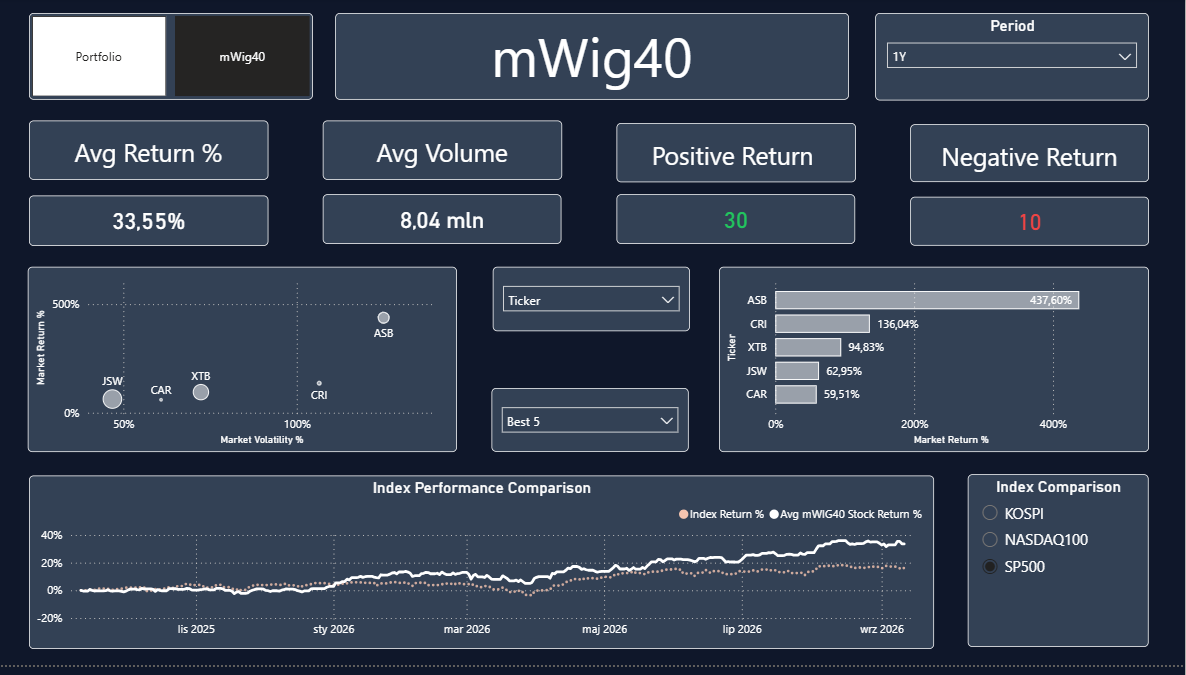

The dashboard page shown, as its layout file describes it:
{"tool":"powerbi","page":{"name":"mWig 40","canvas":[1280,720],"ordinal":1},"visuals":[{"type":"pageNavigator","box":[32,16,306,93.3],"z":0},{"type":"textbox","box":[362.3,16.5,554.4,93.3],"z":1000},{"type":"card","fields":{"Values":["Measures_mWIG40.mWIG40 Return %"]},"box":[32,213.3,258,54.2],"z":2000},{"type":"textbox","box":[32,132.7,258,64],"z":3000},{"type":"card","fields":{"Values":["Measures_mWIG40.Avg Volume"]},"box":[349.4,211.8,257.7,54],"z":4000},{"type":"textbox","box":[349,132.7,258,64],"z":5000},{"type":"card","fields":{"Values":["Measures_mWIG40.Positive"]},"box":[666.4,211.8,257.7,54],"z":6000},{"type":"textbox","box":[666,134.5,258,64],"z":7000},{"type":"card","fields":{"Values":["Measures_mWIG40.Negative"]},"box":[983.5,214.5,257.7,52.6],"z":8000},{"type":"textbox","box":[983.5,136.3,257.7,62.1],"z":9000},{"type":"slicer","title":"Period","fields":{"Values":["Market Period.Period"]},"box":[945.5,16.5,295,94.7],"z":10000},{"type":"slicer","fields":{"Values":["Parametr.Parametr"]},"box":[532.4,289.5,212.7,70],"z":11000},{"type":"scatterChart","fields":{"Category":["DimCompany.Ticker"],"X":["Measures_mWIG40.Market Volatility %"],"Y":["Measures_mWIG40.Market Return %"],"Size":["Measures_mWIG40.Market Avg Volume"]},"box":[31.6,289.5,463,200.3],"z":12000},{"type":"barChart","fields":{"Category":["DimCompany.Ticker"],"Y":["Measures_mWIG40.Market Return %"]},"box":[776.7,289.5,463.8,200.3],"z":13000},{"type":"slicer","fields":{"Values":["Performance Filter.Filter"]},"box":[531,421.3,212.7,68.6],"z":14000},{"type":"slicer","title":"Index Comparison","fields":{"Values":["Index Comparison.IndexName"]},"box":[1045.6,514.6,194.9,186.6],"z":15000},{"type":"lineChart","title":"Index Performance Comparison","fields":{"Y":["Measures_mWIG40.Index Return %","Measures_mWIG40.Avg Market Return %"],"Category":["DimDate.FullDate.Odmiana.Hierarchia dat.Rok","DimDate.FullDate.Odmiana.Hierarchia dat.Kwartał","DimDate.FullDate.Odmiana.Hierarchia dat.Miesiąc","DimDate.FullDate.Odmiana.Hierarchia dat.Dzień"]},"box":[31.9,514.9,976.6,186.8],"z":16000}]}

Visuals, with their boxes in screenshot pixels (x1, y1, x2, y2), scaled from the page's 1280x720 canvas onto the 1186x675 screenshot:
pageNavigator: (30,15,313,102)
textbox: (336,15,849,103)
card - Measures_mWIG40.mWIG40 Return %: (30,200,269,251)
textbox: (30,124,269,184)
card - Measures_mWIG40.Avg Volume: (324,199,563,249)
textbox: (323,124,562,184)
card - Measures_mWIG40.Positive: (617,199,856,249)
textbox: (617,126,856,186)
card - Measures_mWIG40.Negative: (911,201,1150,250)
textbox: (911,128,1150,186)
"Period" slicer: (876,15,1149,104)
slicer - Parametr.Parametr: (493,271,690,337)
scatterChart - DimCompany.Ticker x Measures_mWIG40.Market Volatility %: (29,271,458,459)
barChart - DimCompany.Ticker x Measures_mWIG40.Market Return %: (720,271,1149,459)
slicer - Performance Filter.Filter: (492,395,689,459)
"Index Comparison" slicer: (969,482,1149,657)
"Index Performance Comparison" lineChart: (30,483,934,658)
